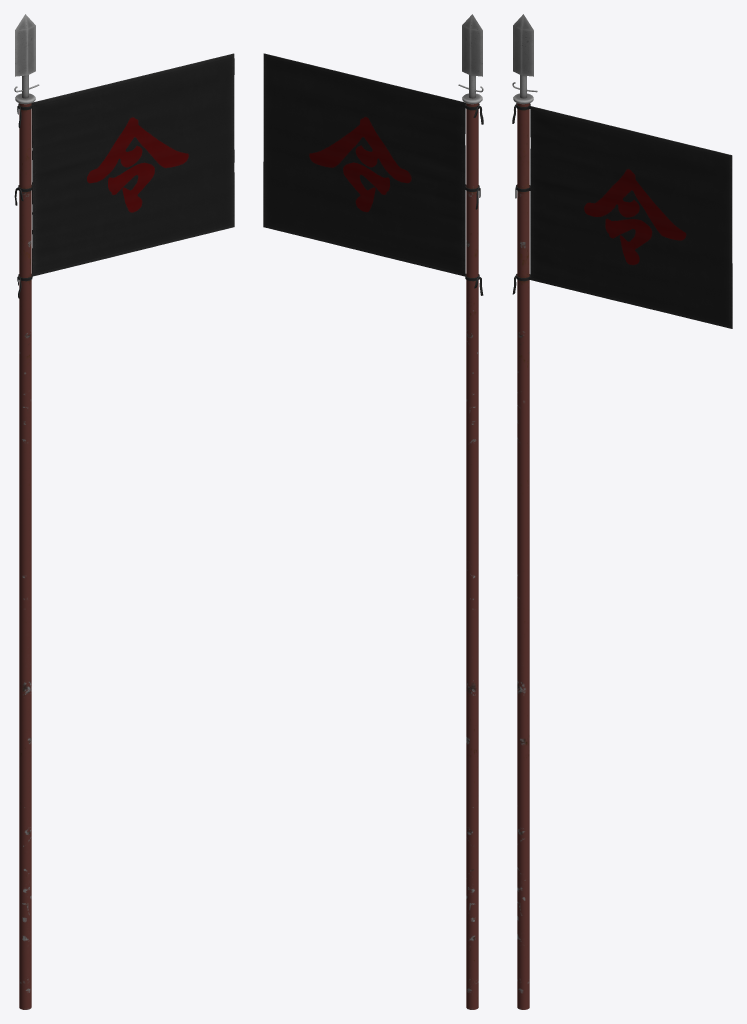
The model's file is SM_Flag.fbx.
The picture shows the model from 3 angles, left to right: view 1: azimuth 30°, elevation 25°; view 2: azimuth 150°, elevation 25°; view 3: azimuth 330°, elevation 25°; orthographic projection.
Visible parts, largest first — view 1: SM_Flag; view 2: SM_Flag; view 3: SM_Flag.
Part boxes in pixels (x1,y1,x2,y2): SM_Flag: (14, 14, 234, 1009); SM_Flag: (263, 14, 483, 1009); SM_Flag: (512, 14, 732, 1009).
Bounding box in the file's own units: 111 × 8.94 × 477.
